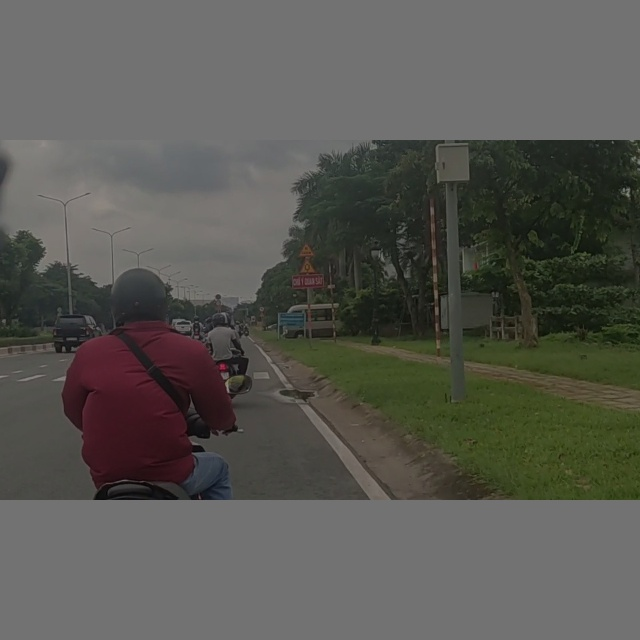P.130: (215, 293, 221, 299)
W.245a: (299, 243, 316, 257)
W.246a: (299, 260, 318, 273)
